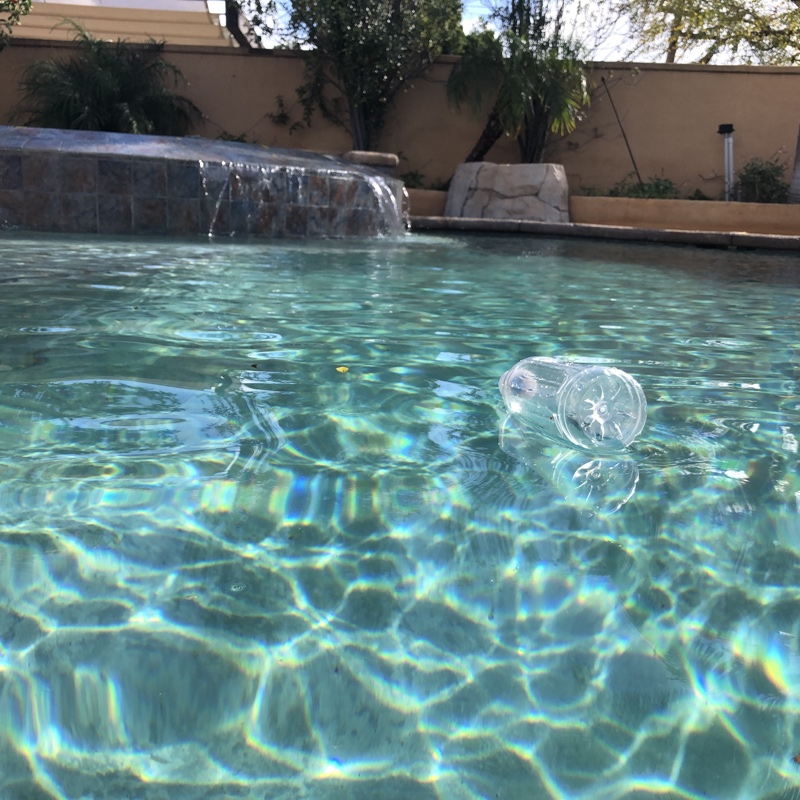Plastic Bottle: (492, 350, 649, 460)
